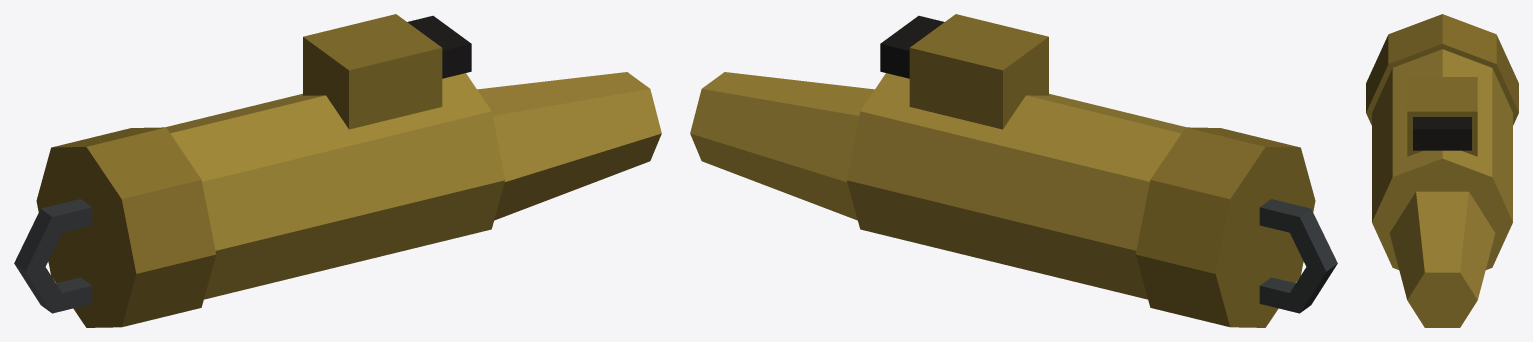
Rendered from tool_whistle.glb.
3 views of the same model, side by side, from view 1: azimuth 30°, elevation 25°; view 2: azimuth 150°, elevation 25°; view 3: azimuth 270°, elevation 25° (orthographic). The views are drawn at different scales.
Parts seen in each view (by area): view 1: Whistle; view 2: Whistle; view 3: Whistle.
Part boxes in pixels (left/top/right/bottom): Whistle: left=14, top=14, right=661, bottom=327; Whistle: left=690, top=14, right=1337, bottom=327; Whistle: left=1366, top=14, right=1518, bottom=327.
Bounding box in the file's own units: 0.093 × 0.031 × 0.026.
